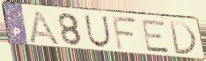8: (57, 12, 83, 47)
A: (27, 9, 62, 47)
D: (168, 20, 199, 57)
E: (140, 20, 172, 55)
F: (110, 14, 139, 52)
U: (83, 14, 113, 49)
